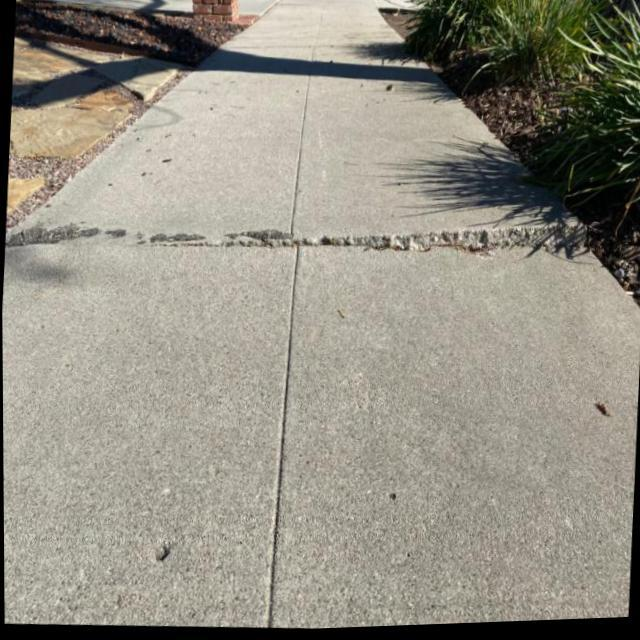bump: (146, 185, 637, 295)
